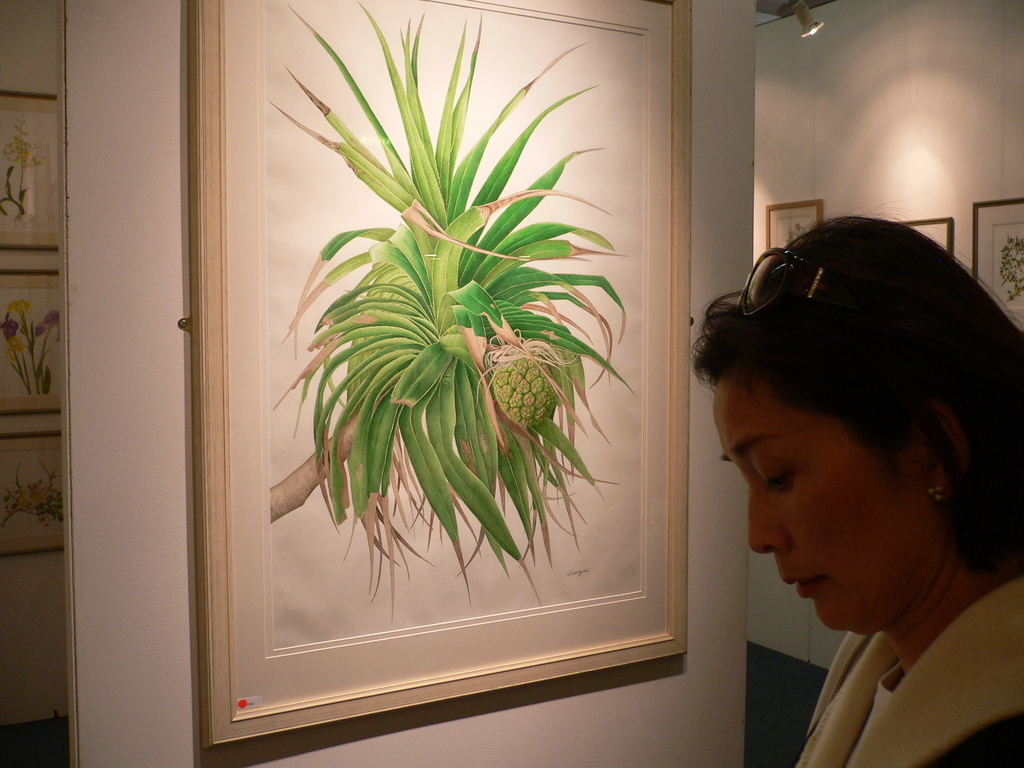Human-face: (715, 387, 921, 628)
